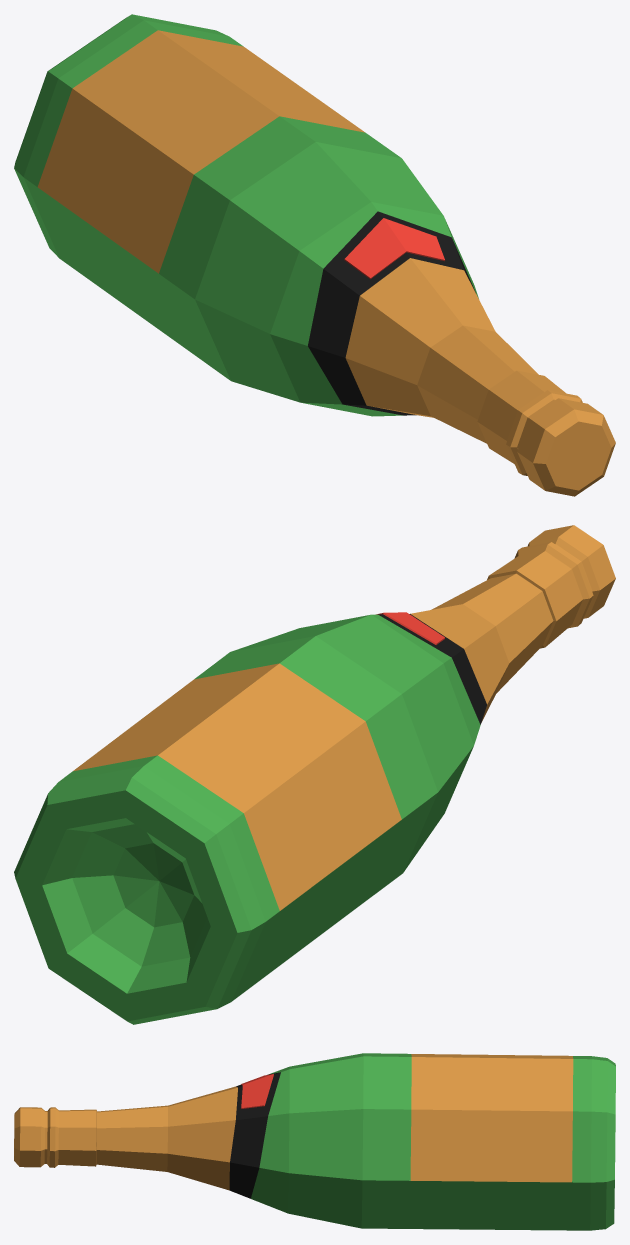
The model's file is champagne.obj.
The picture shows the model from 3 angles, top to bottom: view 1: azimuth 30°, elevation 25°; view 2: azimuth 150°, elevation 25°; view 3: azimuth 270°, elevation 25°; orthographic projection. The views are drawn at different scales.
Parts seen in each view (by area): view 1: Bottle_of_Champagne_01_Bottle_of_Champagne_01_DD9944, Bottle_of_Champagne_01_Bottle_of_Champagne_01_4CAF50, Bottle_of_Champagne_01_Bottle_of_Champagne_01_1A1A1A, Bottle_of_Champagne_01_Bottle_of_Champagne_01_F44336; view 2: Bottle_of_Champagne_01_Bottle_of_Champagne_01_4CAF50, Bottle_of_Champagne_01_Bottle_of_Champagne_01_DD9944, Bottle_of_Champagne_01_Bottle_of_Champagne_01_1A1A1A, Bottle_of_Champagne_01_Bottle_of_Champagne_01_F44336; view 3: Bottle_of_Champagne_01_Bottle_of_Champagne_01_4CAF50, Bottle_of_Champagne_01_Bottle_of_Champagne_01_DD9944, Bottle_of_Champagne_01_Bottle_of_Champagne_01_1A1A1A, Bottle_of_Champagne_01_Bottle_of_Champagne_01_F44336.
Part boxes in pixels (box(x1,y1,x2,y2)): Bottle_of_Champagne_01_Bottle_of_Champagne_01_DD9944: box(37, 30, 615, 496); Bottle_of_Champagne_01_Bottle_of_Champagne_01_4CAF50: box(14, 14, 478, 416); Bottle_of_Champagne_01_Bottle_of_Champagne_01_1A1A1A: box(308, 211, 475, 415); Bottle_of_Champagne_01_Bottle_of_Champagne_01_F44336: box(344, 218, 444, 279); Bottle_of_Champagne_01_Bottle_of_Champagne_01_4CAF50: box(14, 614, 480, 1024); Bottle_of_Champagne_01_Bottle_of_Champagne_01_DD9944: box(73, 525, 615, 910); Bottle_of_Champagne_01_Bottle_of_Champagne_01_1A1A1A: box(378, 614, 486, 724); Bottle_of_Champagne_01_Bottle_of_Champagne_01_F44336: box(376, 612, 444, 644); Bottle_of_Champagne_01_Bottle_of_Champagne_01_4CAF50: box(251, 1053, 615, 1230); Bottle_of_Champagne_01_Bottle_of_Champagne_01_DD9944: box(14, 1054, 573, 1190); Bottle_of_Champagne_01_Bottle_of_Champagne_01_1A1A1A: box(229, 1072, 280, 1198); Bottle_of_Champagne_01_Bottle_of_Champagne_01_F44336: box(241, 1074, 273, 1108).
Bounding box in the file's own units: 0.4458 × 0.4513 × 1.44.
